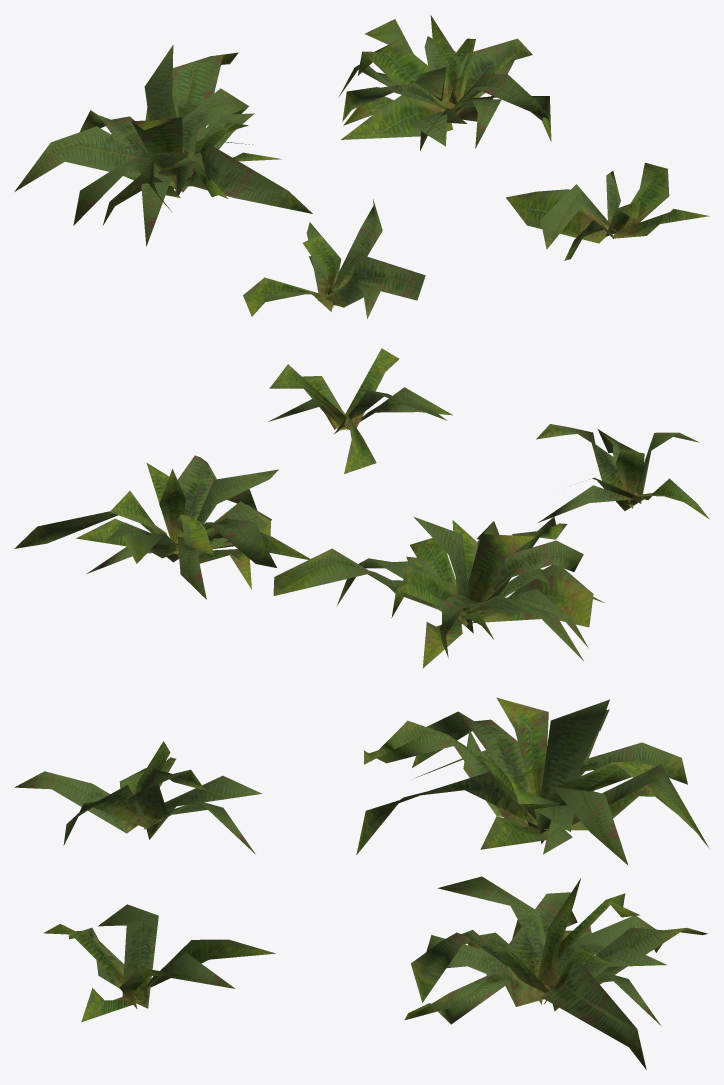
Rendered from fern_02.glb.
3 renders of one model, top to bottom at view 1: azimuth 30°, elevation 25°; view 2: azimuth 150°, elevation 25°; view 3: azimuth 270°, elevation 25°, orthographic. The views are drawn at different scales.
Visible parts, largest first — view 1: fern_02_b, fern_02_c, fern_02_d, fern_02_a; view 2: fern_02_b, fern_02_c, fern_02_d, fern_02_a; view 3: fern_02_b, fern_02_c, fern_02_d, fern_02_a.
Boxes of the visible parts, x1=… form: fern_02_b: x1=14, y1=45, x2=312, y2=246; fern_02_c: x1=338, y1=15, x2=551, y2=150; fern_02_d: x1=506, y1=162, x2=709, y2=260; fern_02_a: x1=243, y1=199, x2=425, y2=318; fern_02_b: x1=273, y1=516, x2=604, y2=668; fern_02_c: x1=14, y1=455, x2=309, y2=599; fern_02_d: x1=268, y1=348, x2=452, y2=473; fern_02_a: x1=536, y1=424, x2=709, y2=522; fern_02_b: x1=356, y1=697, x2=709, y2=865; fern_02_c: x1=404, y1=876, x2=707, y2=1069; fern_02_d: x1=43, y1=904, x2=275, y2=1022; fern_02_a: x1=14, y1=741, x2=262, y2=854.
Bounding box in the file's own units: 1.93 × 0.4246 × 1.72.
Materials: 1 (1 with a texture image).
